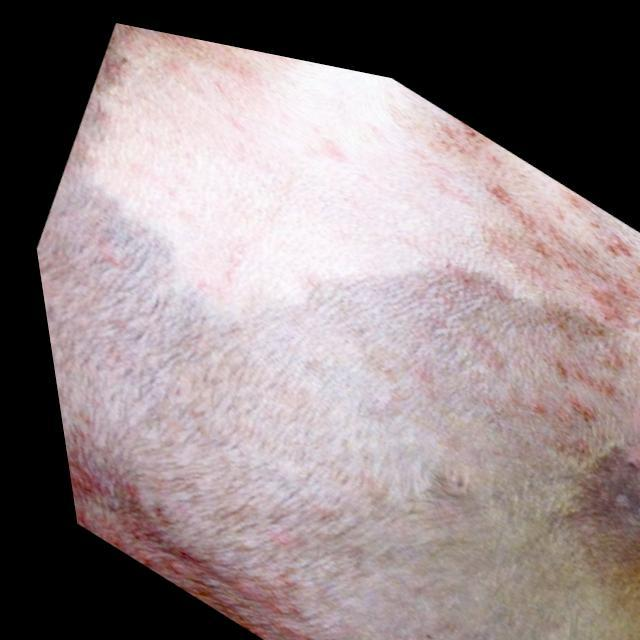qua man cho: (34, 25, 640, 640)
